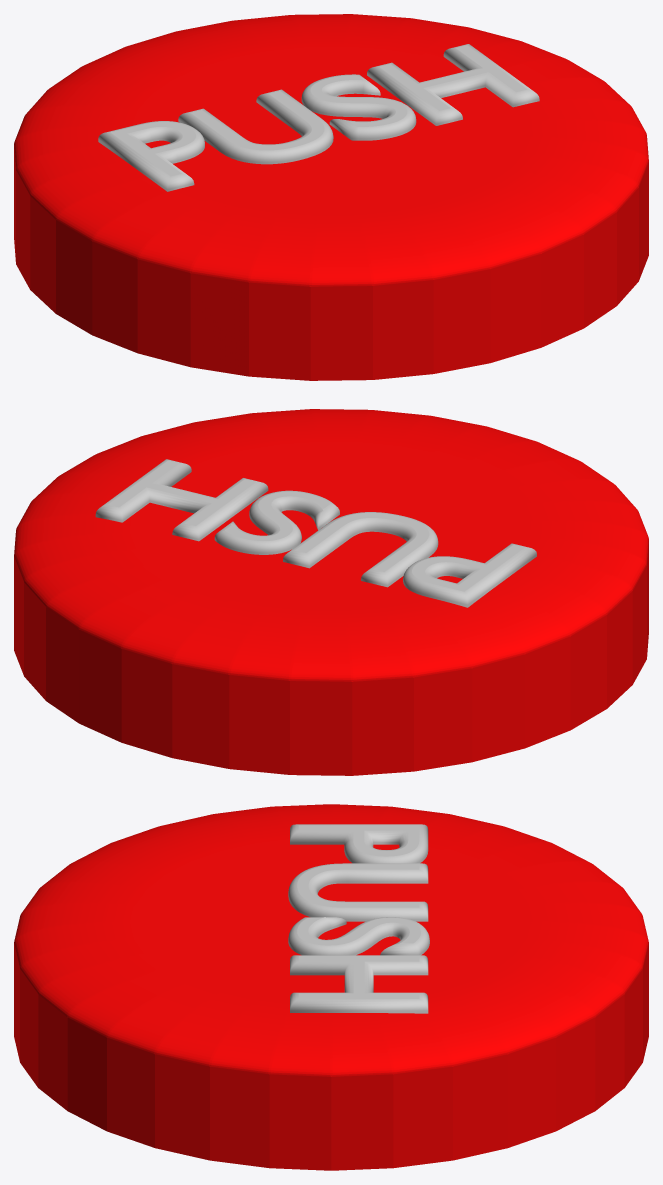
Rendered from push_buzzer.obj.
3 views of the same model, one above another, from view 1: azimuth 30°, elevation 25°; view 2: azimuth 150°, elevation 25°; view 3: azimuth 270°, elevation 25° (orthographic).
Visible parts, largest first — view 1: Cylinder, Text; view 2: Cylinder, Text; view 3: Cylinder, Text.
Boxes of the visible parts, bbox=[...] form: Cylinder: bbox=[14, 14, 648, 380]; Text: bbox=[98, 44, 539, 191]; Cylinder: bbox=[14, 409, 648, 775]; Text: bbox=[95, 459, 536, 607]; Cylinder: bbox=[14, 804, 648, 1170]; Text: bbox=[288, 824, 429, 1013].
Size of the model in its own units: 5 by 1.09 by 5.
